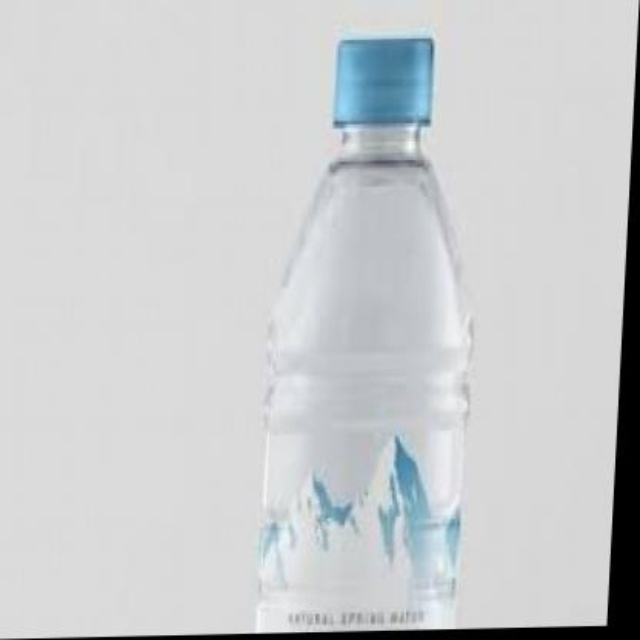trash: (257, 37, 468, 629)
